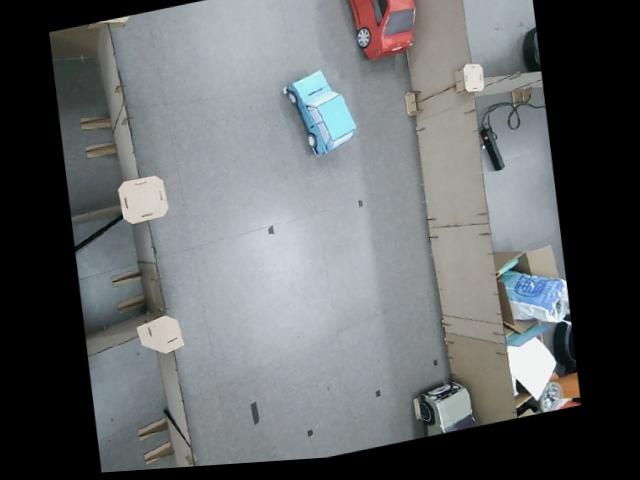car: (282, 64, 358, 161), (337, 0, 422, 64), (412, 375, 479, 439)
